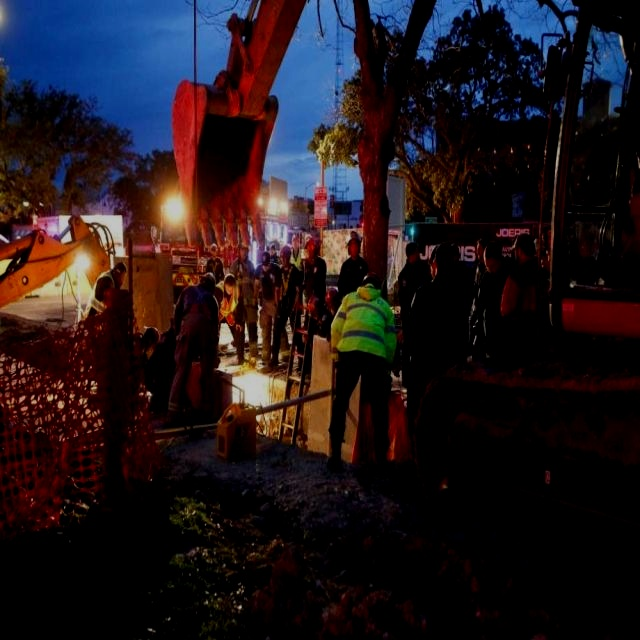Con_Chaleco: (339, 287, 396, 367)
